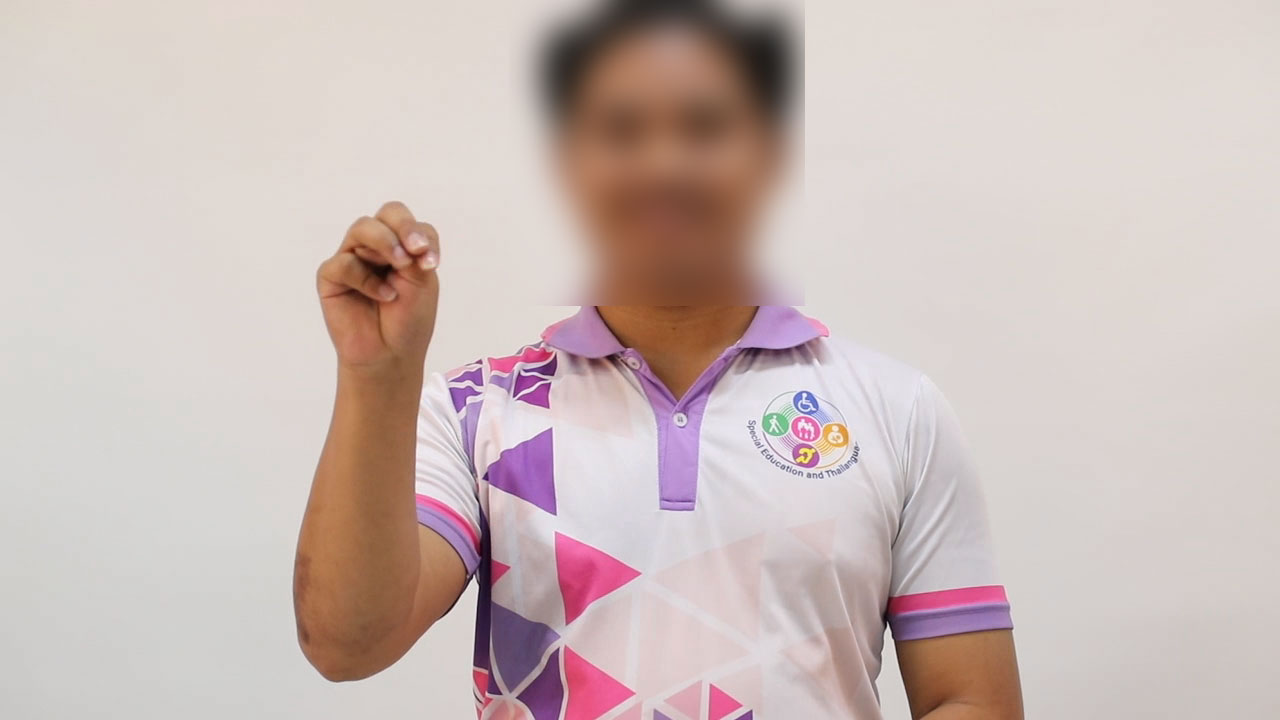mor: (306, 176, 464, 384)
